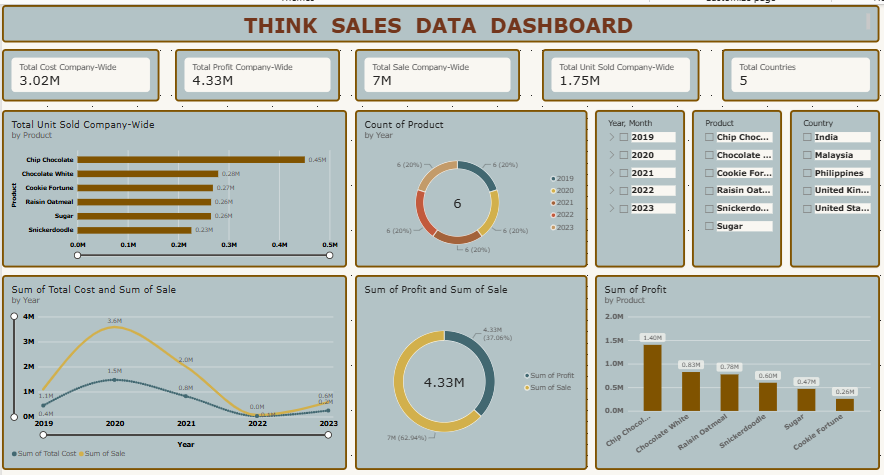

What the dashboard file says about the page in this screenshot:
{"tool":"powerbi","page":{"name":"Page 1","canvas":[1920,1080],"ordinal":0},"visuals":[{"type":"cardVisual","fields":{"Data":["ThinkSalesData.Total Cost Company-Wide"]},"box":[0,94,336,112],"z":0},{"type":"cardVisual","fields":{"Data":["ThinkSalesData.Total Profit Company-Wide"]},"box":[368,94,352,112],"z":1000},{"type":"cardVisual","fields":{"Data":["ThinkSalesData.Total Sale Company-Wide"]},"box":[752,94,352,112],"z":2000},{"type":"cardVisual","fields":{"Data":["ThinkSalesData.Total Unit Sold Company-Wide"]},"box":[1152,94,336,112],"z":3000},{"type":"textbox","box":[0,0,1872,80],"z":4000},{"type":"cardVisual","fields":{"Data":["All Countries.Total Countries"]},"box":[1536,94,336,112],"z":5000},{"type":"barChart","fields":{"Y":["ThinkSalesData.Total Unit Sold Company-Wide"],"Category":["Product.Product"]},"box":[0,224,736,336],"z":6000},{"type":"lineChart","fields":{"Y":["Sum(ThinkSalesData.Total Cost)","Sum(ThinkSalesData.Sale)"],"Category":["Calendar.Year"]},"box":[0,576,736,416],"z":7000},{"type":"donutChart","fields":{"Category":["Calendar.Year"],"Y":["CountNonNull(Product.Product)"]},"box":[752,224,496,336],"z":8000},{"type":"donutChart","fields":{"Y":["Sum(ThinkSalesData.Profit)","Sum(ThinkSalesData.Sale)"]},"box":[752,576,496,416],"z":9000},{"type":"lineStackedColumnComboChart","fields":{"Category":["Product.Product"],"Y":["Sum(ThinkSalesData.Profit)"]},"box":[1264,576,608,416],"z":10000},{"type":"slicer","fields":{"Values":["Calendar.Year","Calendar.Month"]},"box":[1264,224,192,336],"z":11000},{"type":"slicer","fields":{"Values":["Product.Product"]},"box":[1472,224,192,336],"z":11001},{"type":"slicer","fields":{"Values":["ThinkSalesData.Country"]},"box":[1680,224,192,336],"z":11002}]}

Visuals, with their boxes in screenshot pixels (x1, y1, x2, y2):
cardVisual - ThinkSalesData.Total Cost Company-Wide: <bbox>2, 12, 159, 64</bbox>
cardVisual - ThinkSalesData.Total Profit Company-Wide: <bbox>174, 12, 337, 64</bbox>
cardVisual - ThinkSalesData.Total Sale Company-Wide: <bbox>352, 12, 516, 64</bbox>
cardVisual - ThinkSalesData.Total Unit Sold Company-Wide: <bbox>538, 12, 695, 64</bbox>
textbox: <bbox>2, 0, 874, 5</bbox>
cardVisual - All Countries.Total Countries: <bbox>717, 12, 874, 64</bbox>
barChart - ThinkSalesData.Total Unit Sold Company-Wide x Product.Product: <bbox>2, 72, 345, 228</bbox>
lineChart - Sum(ThinkSalesData.Total Cost) x Sum(ThinkSalesData.Sale): <bbox>2, 236, 345, 429</bbox>
donutChart - Calendar.Year x CountNonNull(Product.Product): <bbox>352, 72, 583, 228</bbox>
donutChart - Sum(ThinkSalesData.Profit) x Sum(ThinkSalesData.Sale): <bbox>352, 236, 583, 429</bbox>
lineStackedColumnComboChart - Product.Product x Sum(ThinkSalesData.Profit): <bbox>591, 236, 874, 429</bbox>
slicer - Calendar.Year x Calendar.Month: <bbox>591, 72, 680, 228</bbox>
slicer - Product.Product: <bbox>687, 72, 777, 228</bbox>
slicer - ThinkSalesData.Country: <bbox>784, 72, 874, 228</bbox>
